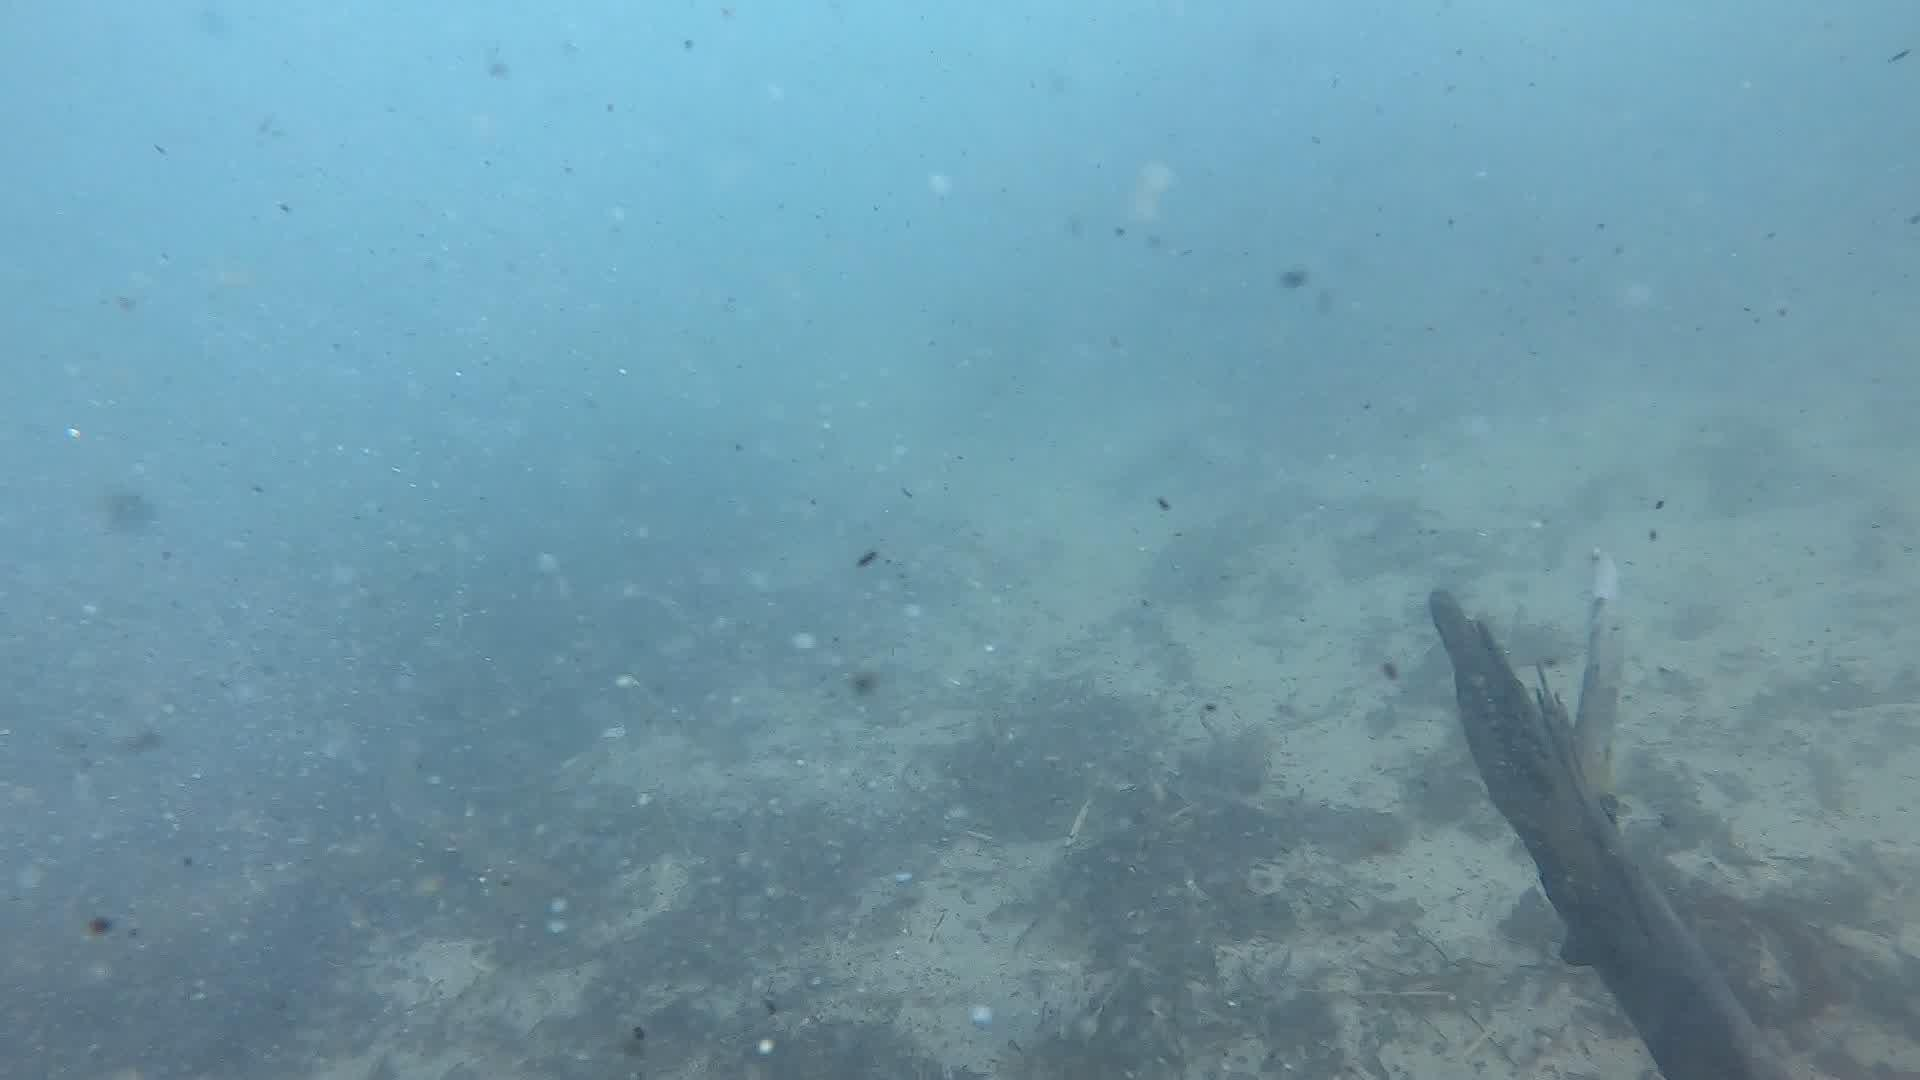wood: (1427, 547, 1788, 1080)
